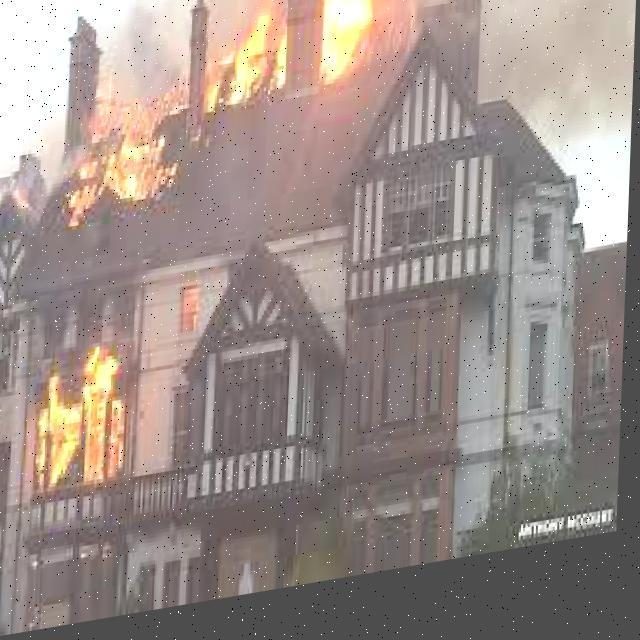Fire: (50, 75, 202, 236), (23, 334, 142, 509), (200, 0, 322, 121)
